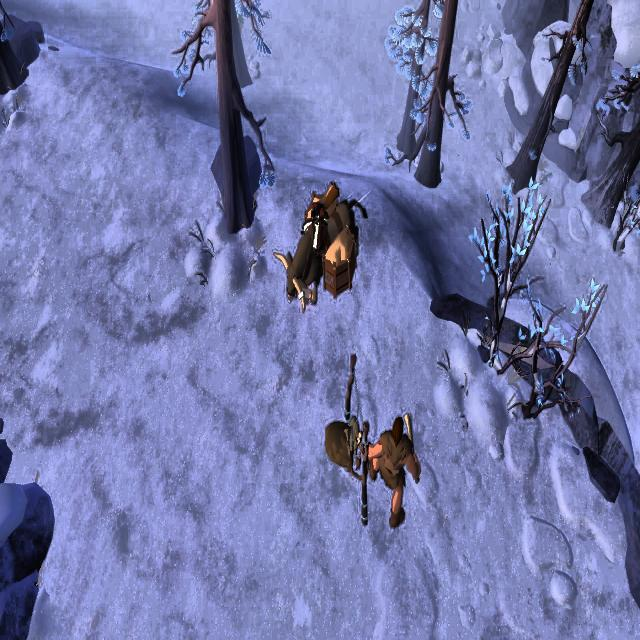enemy_factionKeeper: (366, 409, 421, 528)
